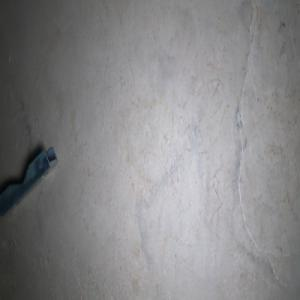ClampPart: (0, 144, 59, 215)
